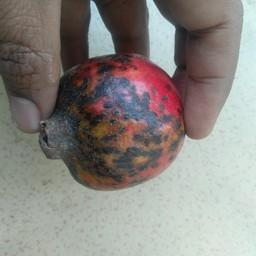Bad_pomegranate: (39, 46, 191, 193)
